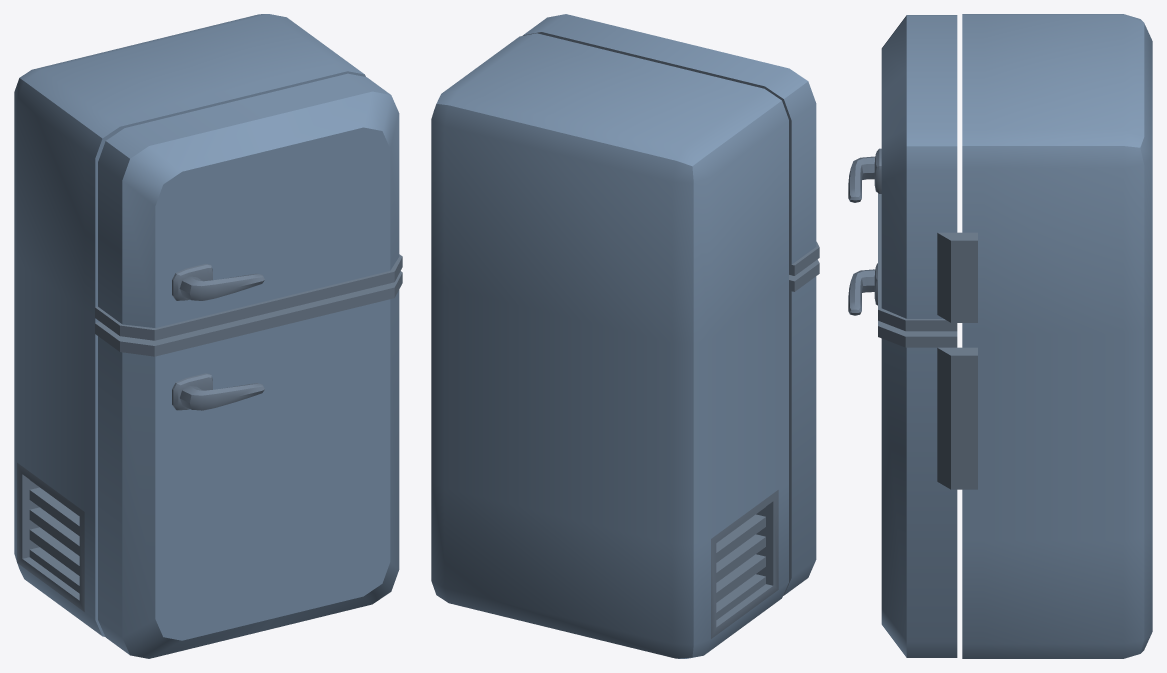
File: fridge.glb
3 renders of one model, left to right at view 1: azimuth 30°, elevation 25°; view 2: azimuth 150°, elevation 25°; view 3: azimuth 270°, elevation 25°, orthographic. The views are drawn at different scales.
Visible parts, largest first — view 1: Environment_Fridge_Door, Environment_Fridge; view 2: Environment_Fridge, Environment_Fridge_Door; view 3: Environment_Fridge, Environment_Fridge_Door.
Part boxes in pixels (x1,y1,x2,y2): Environment_Fridge_Door: [95, 73, 402, 658]; Environment_Fridge: [14, 14, 365, 636]; Environment_Fridge: [431, 33, 788, 658]; Environment_Fridge_Door: [522, 14, 819, 595]; Environment_Fridge: [937, 14, 1152, 658]; Environment_Fridge_Door: [848, 15, 957, 657].
Bounding box in the file's own units: 2.52 × 4.18 × 2.18.
